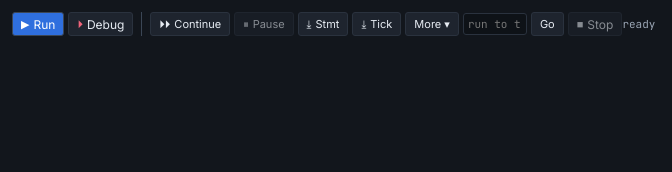
it: debug controls › offers Step event and Step solver step in the menu
The width and height of the screenshot is (672, 172).
Click the button with aria-label "More step commands".
click(432, 24)  # box [405,12,459,36]
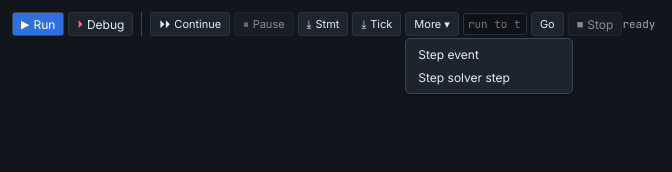
Click the menu item "Step solver step".
click(489, 78)  # box [410,66,568,89]
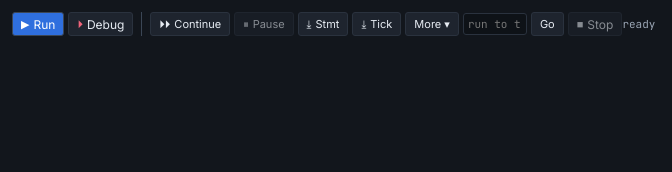
Expected: the menu is gone
